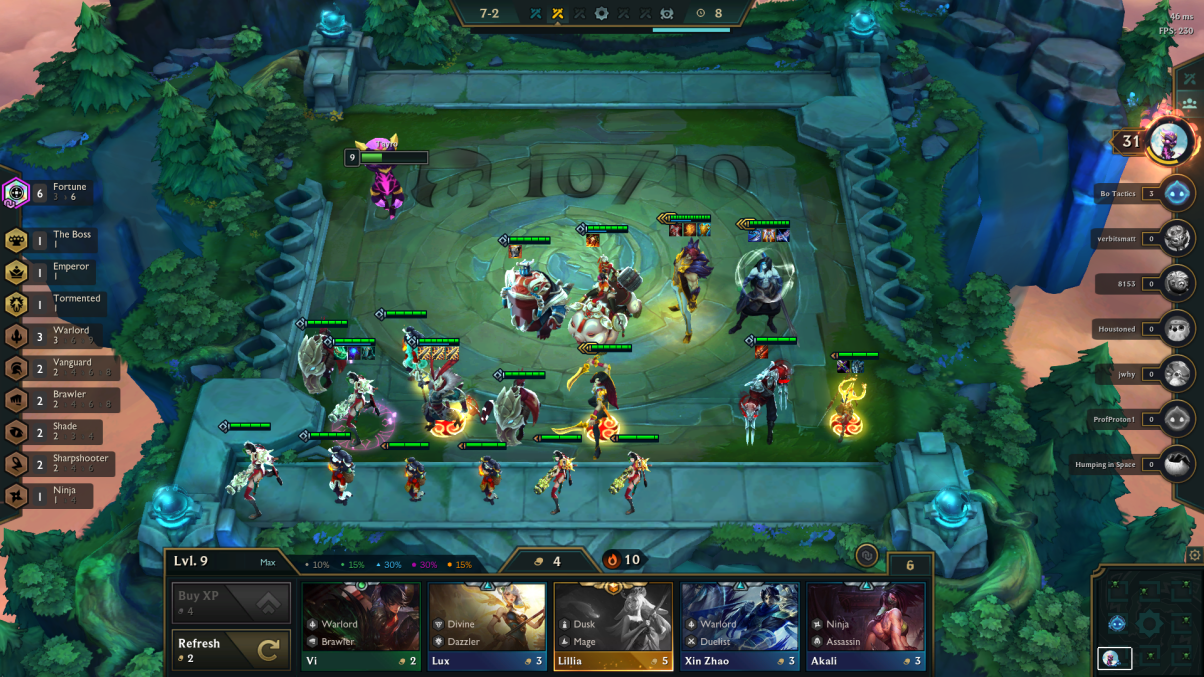1star_annie: (377, 436, 439, 515), (452, 435, 514, 514)
1star_jinx: (526, 429, 592, 520), (599, 430, 665, 521)
1star_nidalee: (810, 343, 886, 464)
2star_annie: (295, 423, 367, 526), (365, 300, 438, 394)
2star_azir: (400, 333, 486, 445)
2star_azirsoldier: (284, 309, 357, 403), (480, 359, 553, 453)
2star_jinx: (310, 331, 402, 457), (212, 416, 290, 528)
2star_sejuani: (560, 216, 654, 362)
2star_tahmkench: (484, 226, 580, 349)
2star_zed: (721, 328, 817, 451)
3star_katarina: (544, 338, 638, 462)
3star_kaynblue: (719, 206, 814, 345)
3star_sett: (644, 206, 727, 358)
item_bf: (832, 354, 851, 376)
item_bluebuff: (344, 341, 363, 363)
item_fon: (849, 355, 868, 377)
item_ga: (759, 222, 778, 244)
item_gargoyle: (504, 240, 523, 262)
item_giantslayer: (745, 223, 764, 245)
item_hoj: (680, 218, 699, 240)
item_quicksilver: (358, 340, 377, 362)
item_rfc: (751, 340, 770, 362)
item_shojin: (330, 341, 349, 363)
item_spark: (772, 222, 791, 244)
item_statikk: (415, 342, 434, 364), (427, 342, 446, 364), (441, 342, 460, 364)
item_sunfire: (583, 228, 602, 250)
item_vanguard: (694, 218, 713, 240)
item_zeke: (665, 220, 684, 242)
trait_brawler2: (1, 381, 125, 418)
trait_emperor1: (1, 254, 125, 291)
trait_fortune6: (1, 173, 124, 213)
trait_fortune_chosen: (1, 173, 32, 211)
trait_ninja1: (1, 476, 125, 513)
trait_shade2: (1, 413, 125, 450)
trait_sharpshooter2: (1, 445, 125, 482)
trait_theboss1: (1, 221, 125, 258)
trait_tormented1: (1, 286, 125, 323)
trait_vanguard2: (1, 349, 125, 386)
trait_warlord3: (1, 317, 125, 354)
